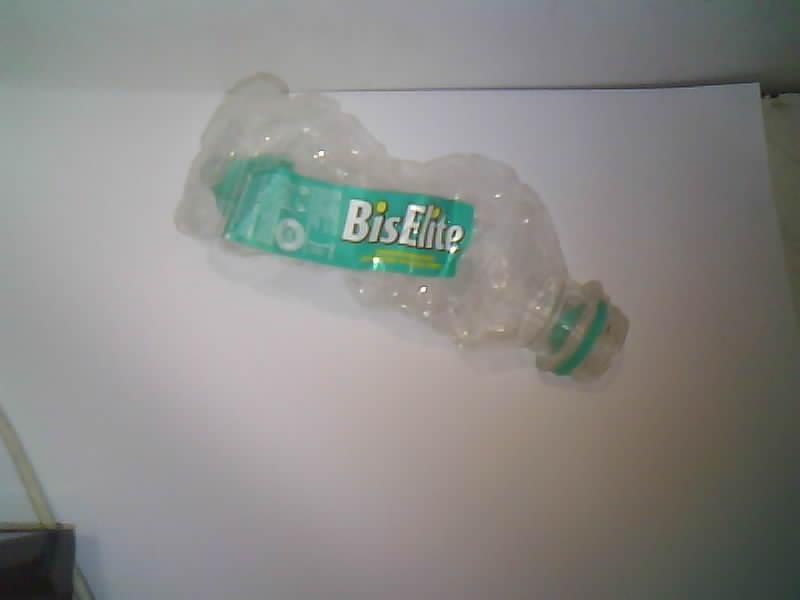non-biodegradable: (176, 76, 628, 380)
